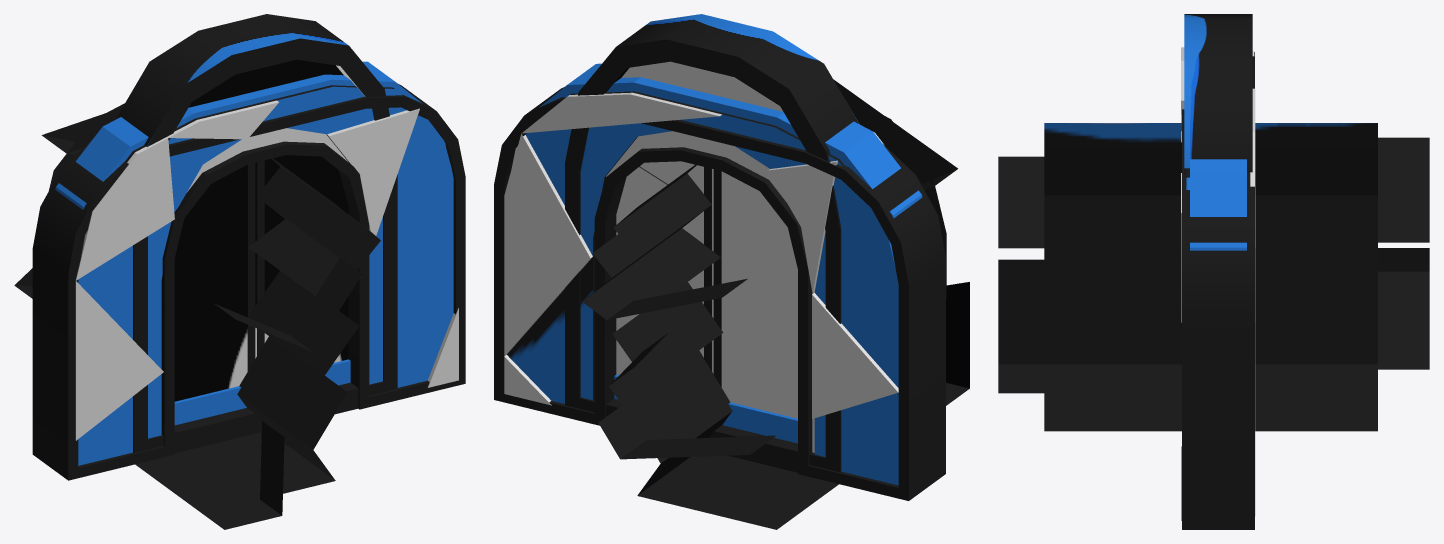
The model's file is Dver.obj.
3 views of the same model, side by side, from view 1: azimuth 30°, elevation 25°; view 2: azimuth 150°, elevation 25°; view 3: azimuth 270°, elevation 25° (orthographic). The views are drawn at different scales.
Parts seen in each view (by area): view 1: Косяк.001, Левая_дверь, Косяк.003, Дверь, Косяк, Дверь.001, Дверь.002; view 2: Косяк.001, Левая_дверь, Косяк.003, Дверь, Косяк, Дверь.001, Дверь.002; view 3: Левая_дверь, Косяк.003, Косяк, Косяк.001.
Part boxes in pixels (left/top/right/bottom): Косяк.001: left=55, top=61, right=458, bottom=465; Левая_дверь: left=14, top=103, right=380, bottom=529; Косяк.003: left=32, top=84, right=465, bottom=480; Дверь: left=174, top=59, right=350, bottom=425; Косяк: left=115, top=14, right=397, bottom=453; Дверь.001: left=247, top=163, right=255, bottom=371; Дверь.002: left=257, top=160, right=264, bottom=356; Косяк.001: left=504, top=63, right=922, bottom=485; Левая_дверь: left=582, top=79, right=969, bottom=529; Косяк.003: left=494, top=87, right=945, bottom=500; Дверь: left=614, top=61, right=797, bottom=443; Косяк: left=565, top=14, right=859, bottom=472; Дверь.001: left=713, top=169, right=721, bottom=387; Дверь.002: left=704, top=167, right=711, bottom=371; Левая_дверь: left=998, top=123, right=1429, bottom=431; Косяк.003: left=1182, top=52, right=1254, bottom=529; Косяк: left=1184, top=14, right=1252, bottom=177; Косяк.001: left=1181, top=47, right=1255, bottom=520.
Bounding box in the file's own units: 3.01 × 2.78 × 2.76.
